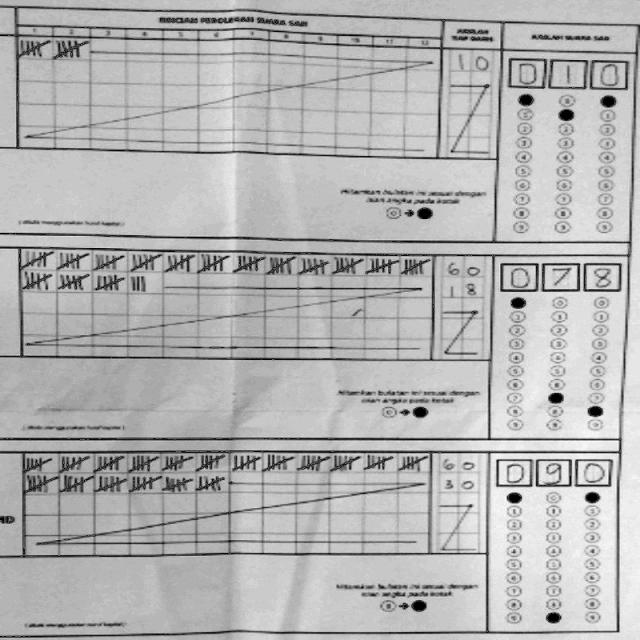Suara: (508, 50, 630, 90), (497, 256, 624, 294), (491, 454, 614, 488)
